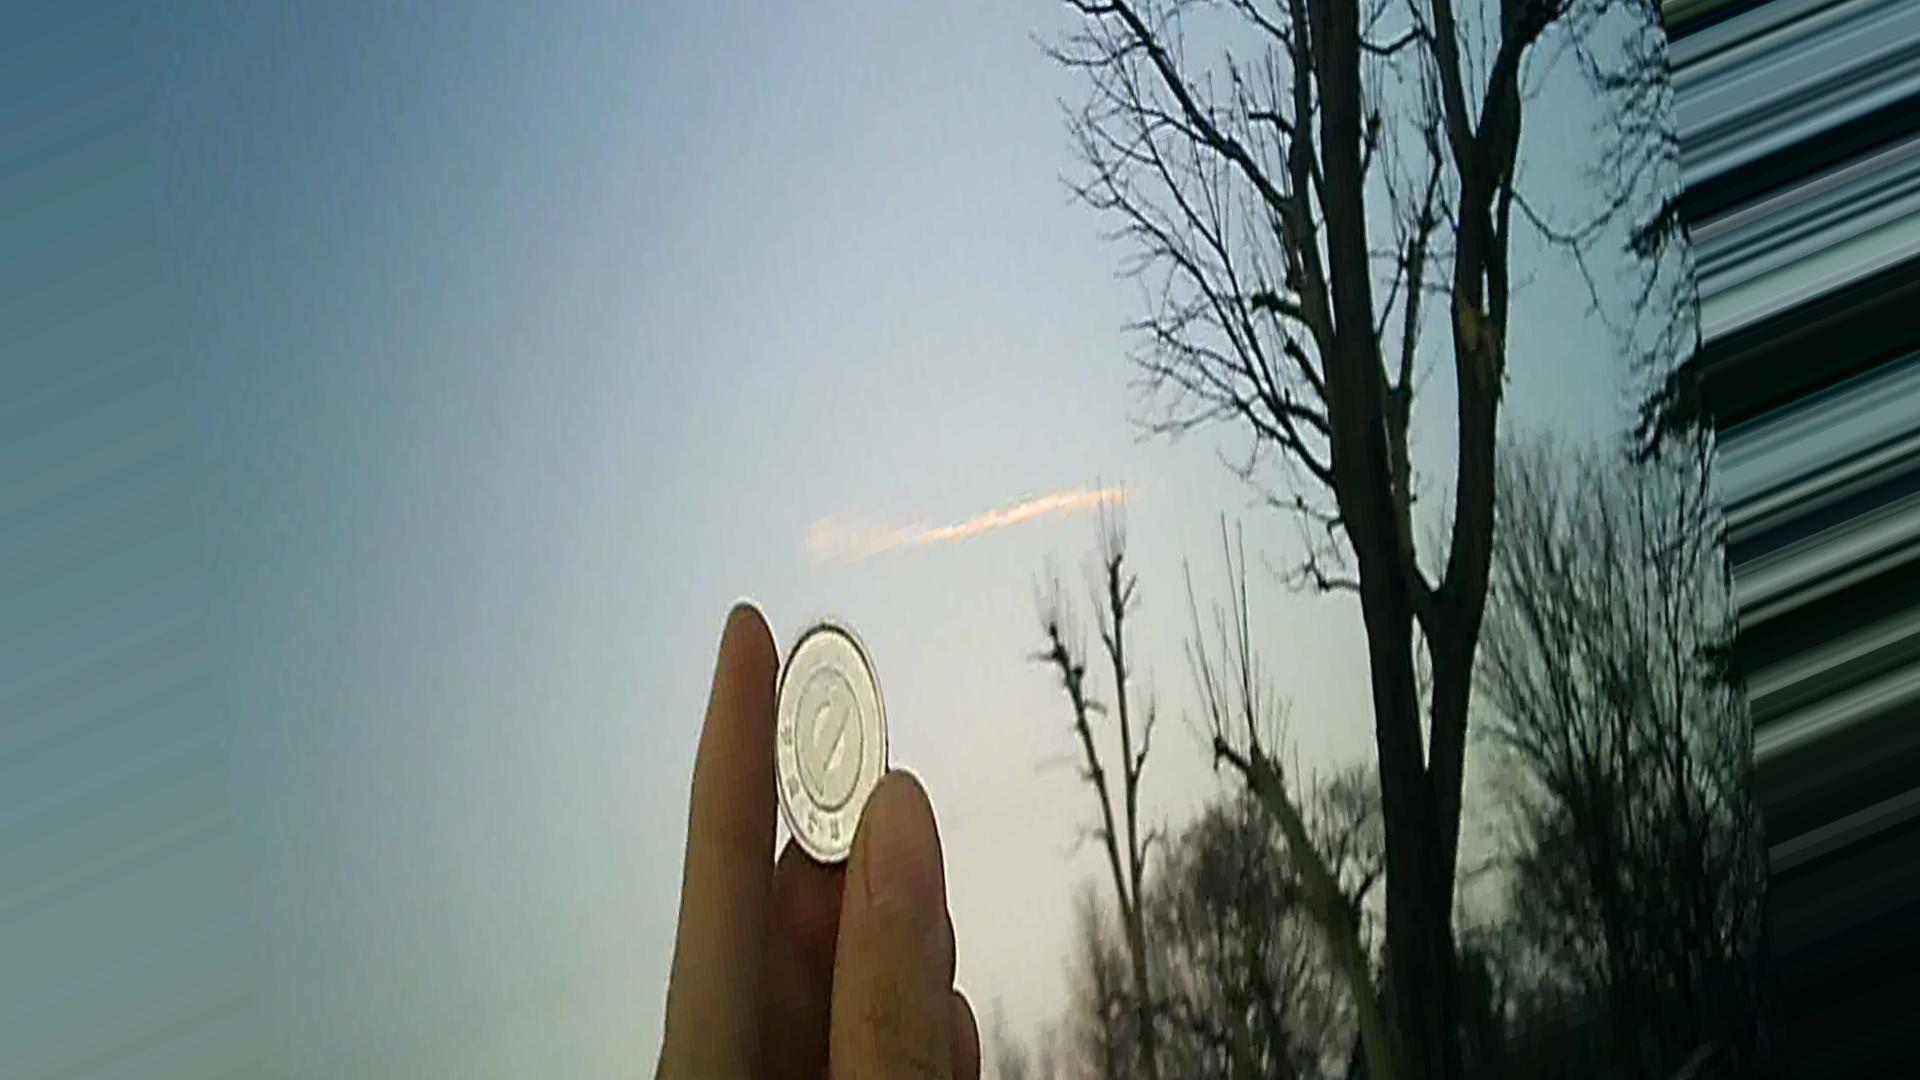1 Yen: (742, 605, 901, 872)
